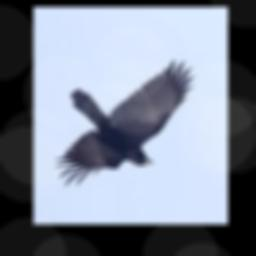Crow: (54, 62, 194, 187)
